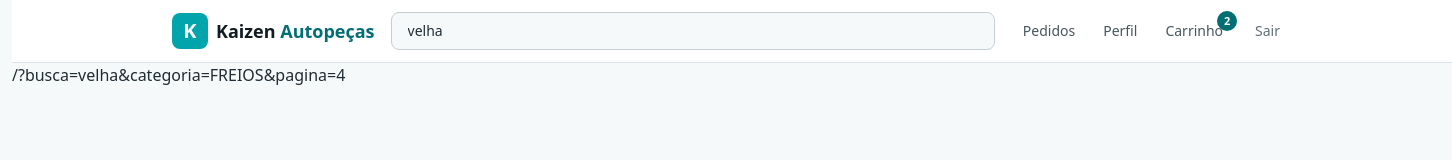
Test case: KZN-325: a busca do cabecalho recomeca da primeira pagina › pesquisar mantem os filtros mas descarta a pagina
Replace the text in the search field named "buscar peças" with "amortecedor" at (693, 31), box x1=391 y1=12 x2=995 y2=50
Then press Enter
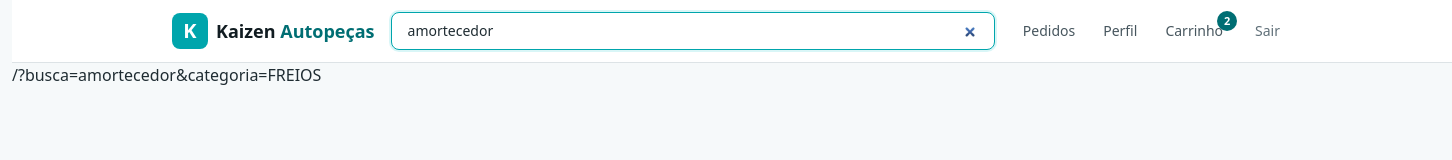
expect the text with test id "url" reads "/?busca=amortecedor&categoria=FREIOS": met, box x1=12 y1=64 x2=321 y2=86
